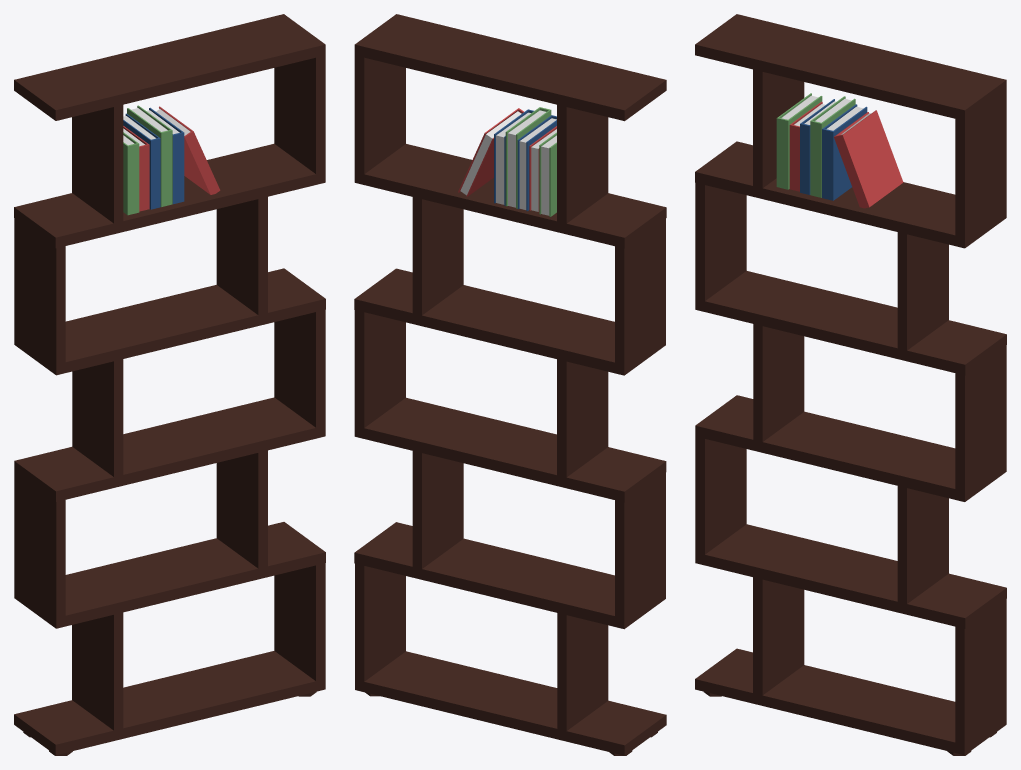
File: Modren Shelf.fbx
The picture shows the model from 3 angles, left to right: view 1: azimuth 30°, elevation 25°; view 2: azimuth 150°, elevation 25°; view 3: azimuth 330°, elevation 25°; orthographic projection.
Parts seen in each view (by area): view 1: Modren Shelf; view 2: Modren Shelf; view 3: Modren Shelf.
Part boxes in pixels (<box>): Modren Shelf: <box>14,14,325,755</box>; Modren Shelf: <box>354,14,666,755</box>; Modren Shelf: <box>695,14,1006,755</box>.
Size of the model in its own units: 115 by 264 by 30.71.
